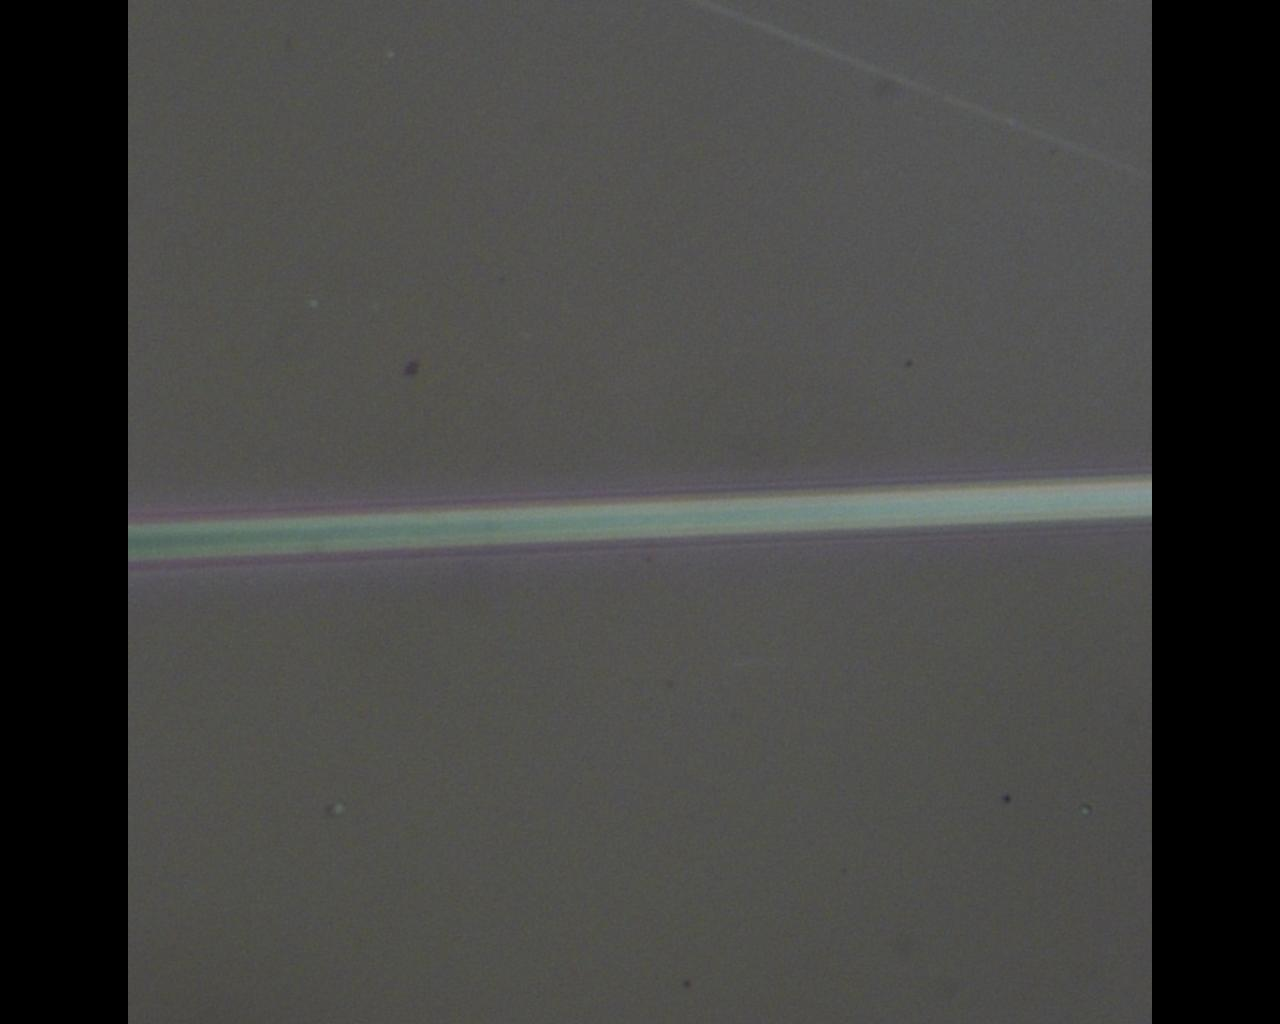fiber: (0, 63, 627, 512), (627, 68, 1280, 349), (302, 512, 627, 983), (627, 807, 1280, 916)
